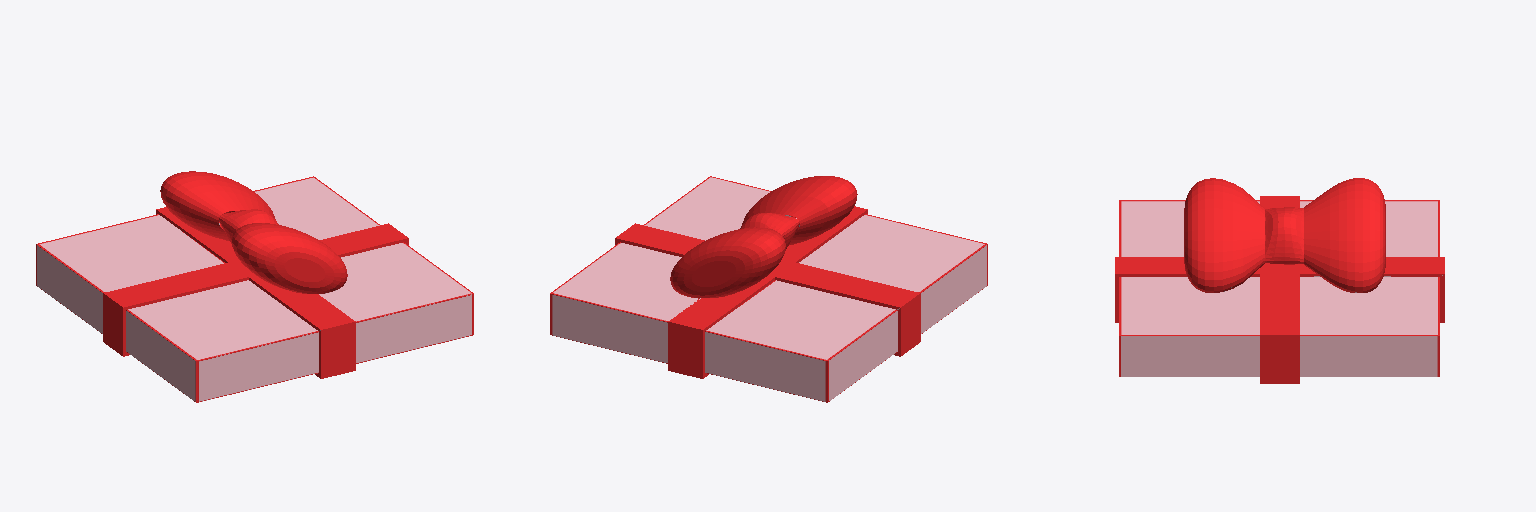
3 renders of one model, left to right at view 1: azimuth 30°, elevation 25°; view 2: azimuth 150°, elevation 25°; view 3: azimuth 270°, elevation 25°, orthographic.
Parts seen in each view (by area): view 1: Cubo.002_Cubo.002; view 2: Cubo.002_Cubo.002; view 3: Cubo.002_Cubo.002.
Part boxes in pixels (x1,y1,x2,y2): Cubo.002_Cubo.002: (36, 171, 473, 402); Cubo.002_Cubo.002: (550, 176, 987, 402); Cubo.002_Cubo.002: (1115, 178, 1444, 383).
Size of the model in its own units: 2.05 by 0.8076 by 2.05.
Materials: 3 (3 with a texture image).